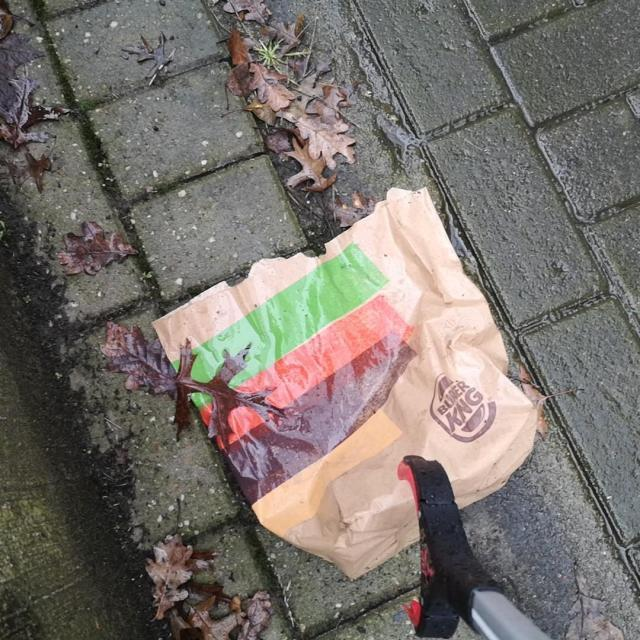Paper: (148, 181, 540, 585)
